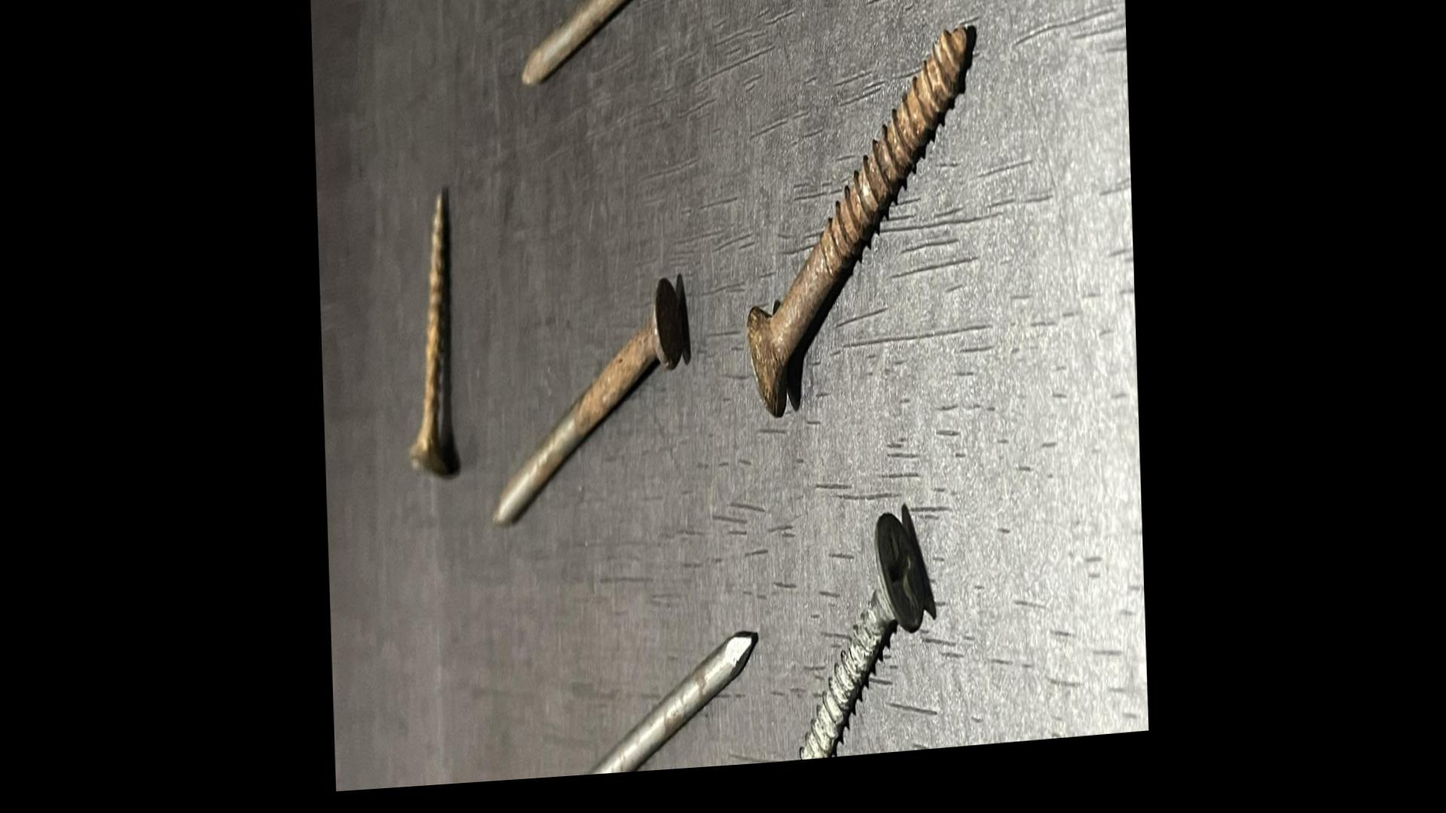nail: (479, 246, 702, 557), (507, 577, 767, 787), (497, 0, 770, 122)
screw: (725, 7, 992, 483), (738, 487, 936, 774), (400, 174, 474, 552)
